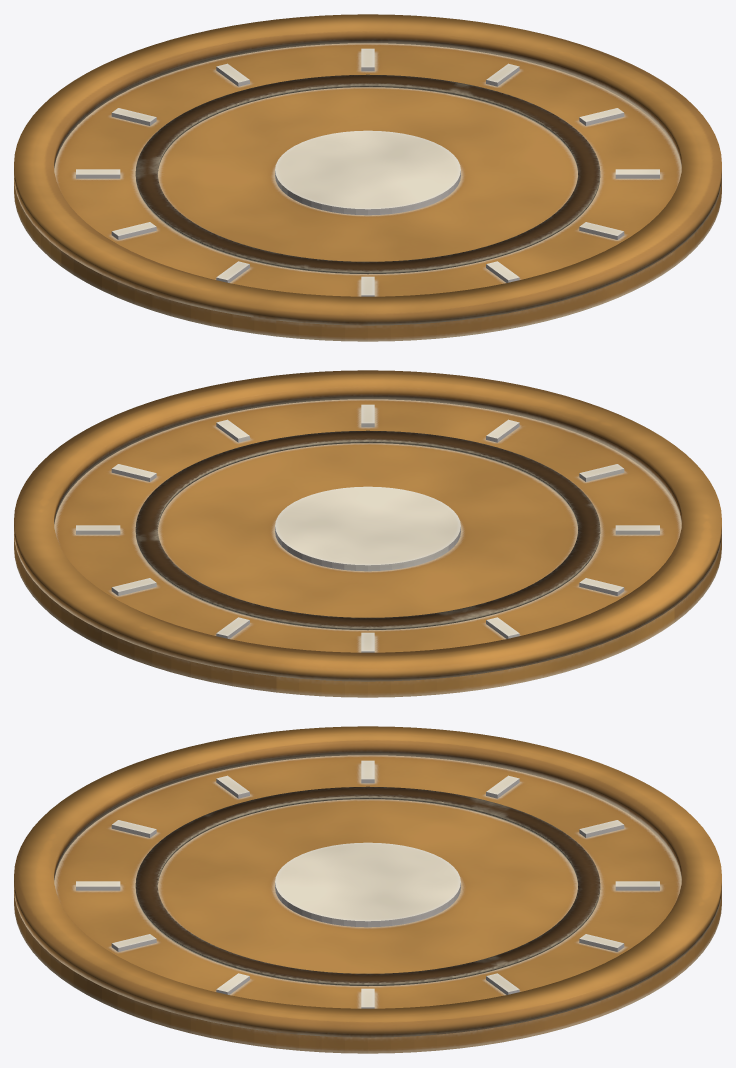
Rendered from FT_Plate.glb.
3 renders of one model, top to bottom at view 1: azimuth 30°, elevation 25°; view 2: azimuth 150°, elevation 25°; view 3: azimuth 270°, elevation 25°, orthographic.
Visible parts, largest first — view 1: FT_Plate; view 2: FT_Plate; view 3: FT_Plate.
Part boxes in pixels (<box>): FT_Plate: <box>14,14,721,341</box>; FT_Plate: <box>14,370,721,697</box>; FT_Plate: <box>14,726,721,1053</box>.
Bounding box in the file's own units: 3.2 × 0.14 × 3.2.
3 materials, 3 textured.
